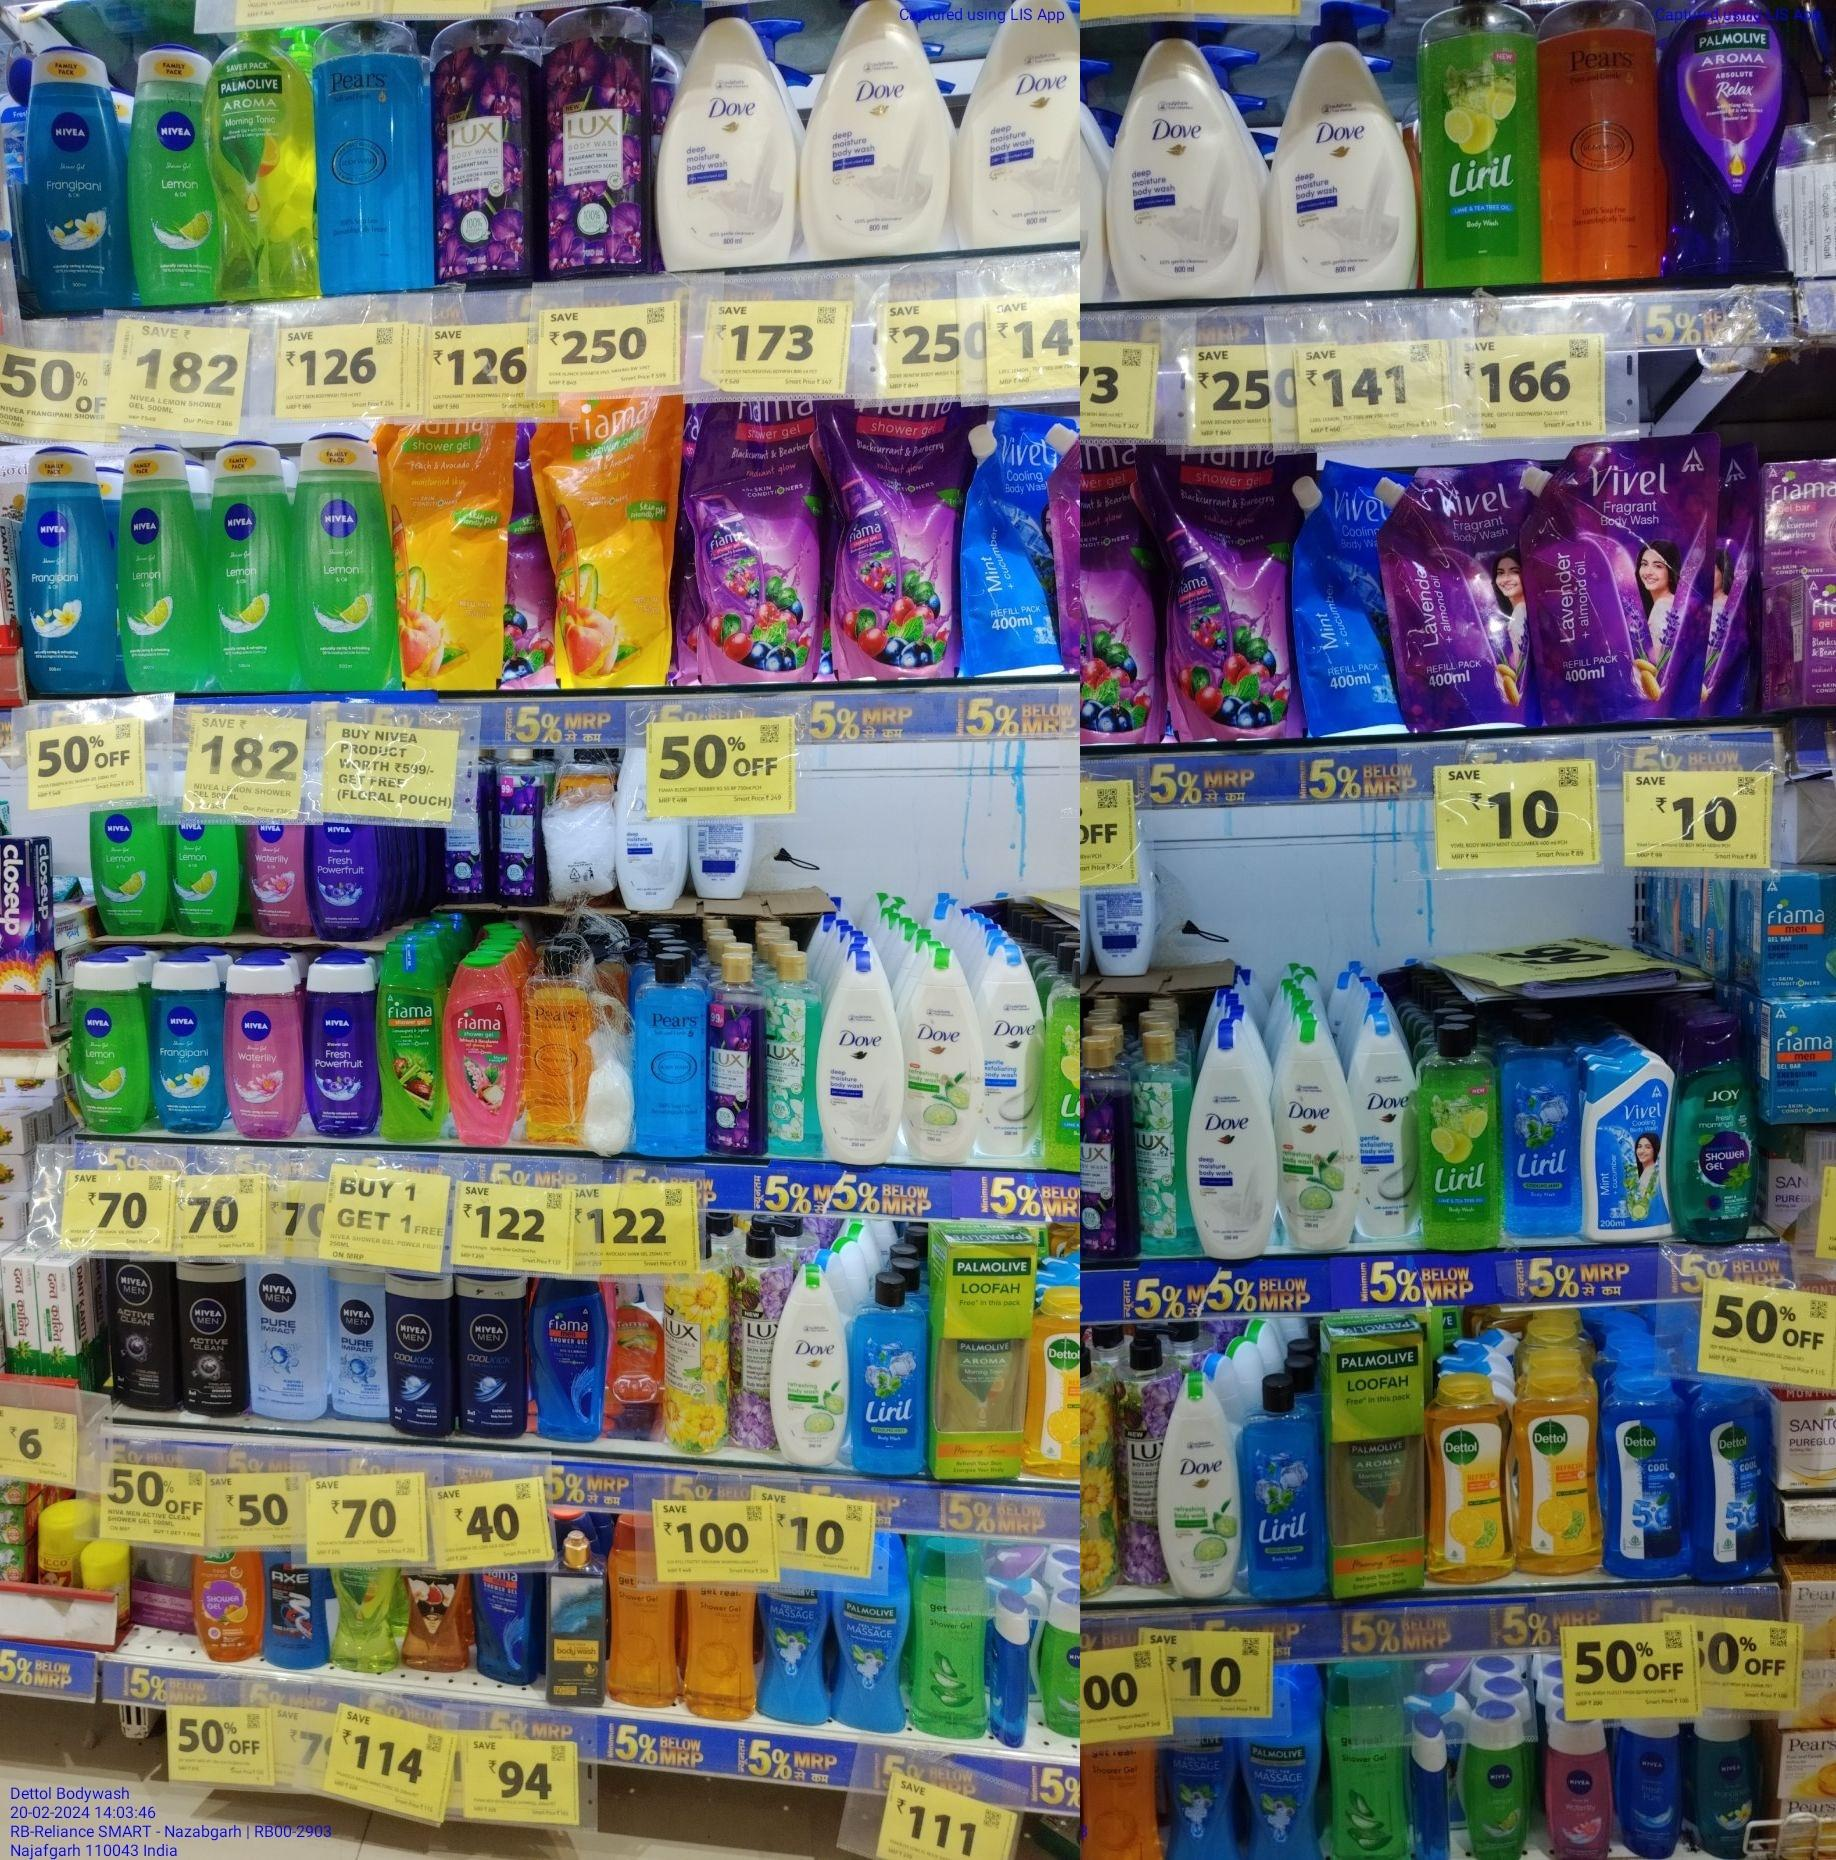Dettol_Bodywash_Cool: (1609, 1379, 1686, 1581), (1696, 1384, 1770, 1588)
Dettol_Bodywash_Refresh: (1518, 1366, 1599, 1577), (1426, 1376, 1508, 1581), (1031, 1281, 1079, 1483)
Dove_Deep_Moisture_Body_Wash_250ML: (1187, 1029, 1276, 1258), (824, 950, 903, 1165)
Dove_Gentle_Exfoliating_Body_Wash_250ML: (1362, 1016, 1417, 1236), (985, 945, 1041, 1160)
Dove_Refreshing_Body_Wash_250ML: (1157, 1371, 1241, 1601), (1279, 1017, 1359, 1251), (910, 947, 980, 1164), (772, 1268, 846, 1466)
Fiama_Shower_Gel_Lemongrass_and_Jojoba_250ML: (383, 940, 446, 1139)
Fiama_Shower_Gel_Patchouli_and_Macadamia_250ML: (449, 960, 518, 1149)
Get_Real_Shower_Gel_Moisturising_Glycerin_300ML: (684, 1589, 753, 1720), (1083, 1749, 1163, 1860), (610, 1571, 676, 1705)
Joy_Shower_Gel_Mandarin_and_Lemongrass_250ML: (192, 1556, 264, 1660)
Joy_Shower_Gel_Mint_and_Eucalyptus_250ML: (1673, 1014, 1762, 1244)
Liril_Cooling_Mint_Body_Wash_250ML: (1246, 1369, 1327, 1599), (1506, 1012, 1577, 1238), (851, 1275, 928, 1478)
Liril_Lime_and_Tea_Tree_Oil_Body_Wash_250ML: (1424, 1021, 1500, 1250)
Lux_Black_Orchid_Scent_and_Juniper_Oil_Body_Wash_245ML: (1081, 1036, 1142, 1258), (710, 954, 763, 1154), (496, 750, 541, 903)
Lux_Body_Wash_Skin_Detox_Freesia_Scent_and_Alove_Vera_245ML: (768, 948, 819, 1145)
Nivea_Shower_Gel_Frangipani_and_Oil_250ML: (27, 61, 131, 308), (18, 447, 114, 700), (155, 959, 225, 1132), (1695, 1719, 1759, 1857)
Nivea_Shower_Gel_Fresh_Powerfruit_250ML: (306, 959, 377, 1137), (313, 821, 378, 938)
Nivea_Shower_Gel_Lemon_and_Oil_250ML: (296, 437, 393, 688), (208, 447, 293, 693), (121, 447, 203, 686), (136, 45, 210, 303), (69, 957, 150, 1132), (87, 804, 168, 937), (1464, 1709, 1528, 1860), (173, 822, 239, 937)
Nivea_Shower_Gel_Waterlily_and_Oil_250ML: (230, 960, 303, 1140), (1547, 1715, 1612, 1860), (251, 826, 309, 935)
Palmolive_Aroma_Moments_Feel_The_Massage_Shower_Gel_250ML: (1246, 1734, 1322, 1860), (837, 1594, 905, 1731), (762, 1589, 832, 1715), (1169, 1739, 1241, 1860)
Palmolive_Aroma_Morning_Tonic_Shower_Gel_250ML: (330, 1566, 400, 1673)
Palmolive_Luminous_Oils_With_White_Orchid_Shower_Gel_250ML: (404, 1572, 467, 1672)
Pears_Pure_Glycerin_and_Mint_Extracts_Body_Wash_250ML: (632, 962, 706, 1157)
